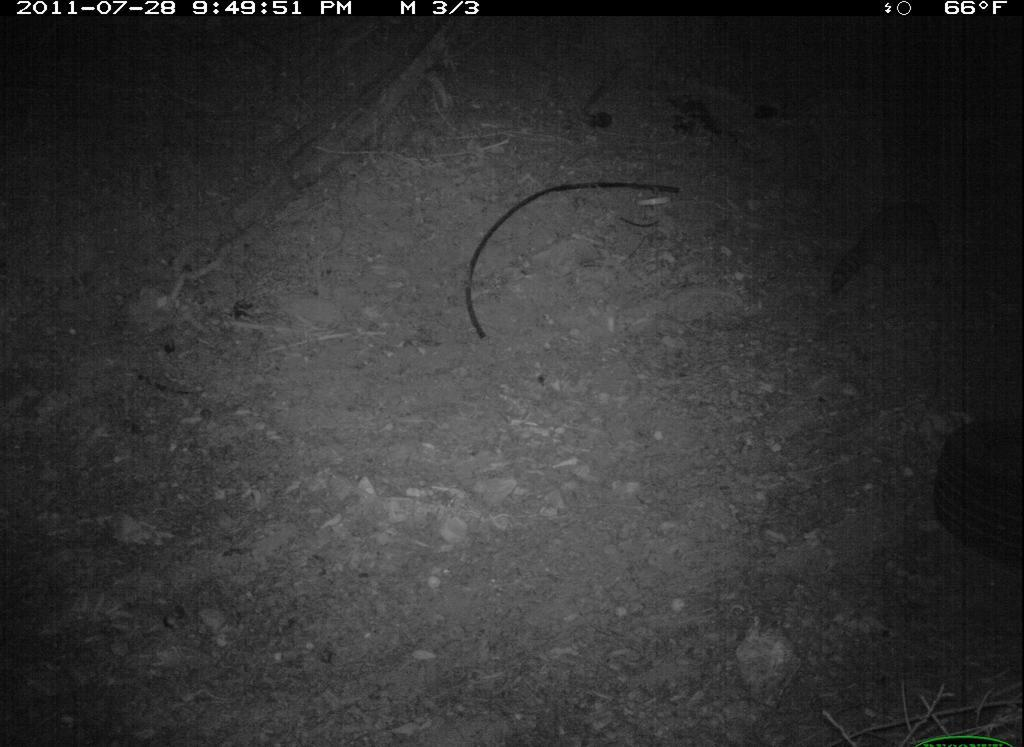raccoon: (811, 185, 958, 309)
